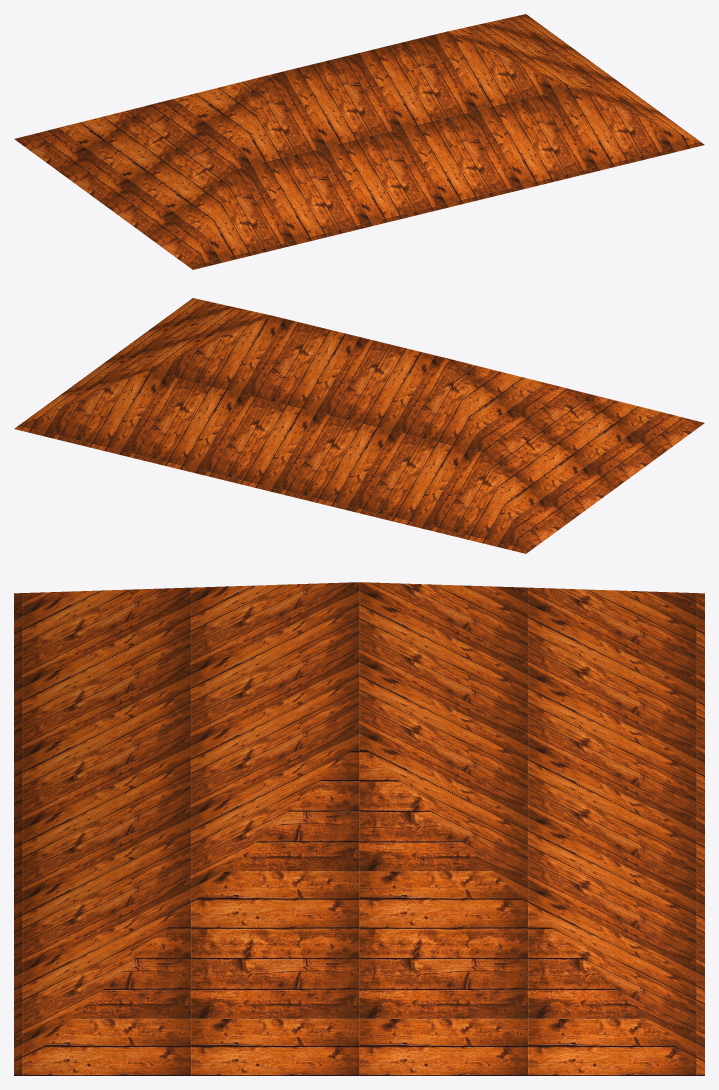
The model's file is roof2.fbx.
3 views of the same model, one above another, from view 1: azimuth 30°, elevation 25°; view 2: azimuth 150°, elevation 25°; view 3: azimuth 270°, elevation 25° (orthographic). The views are drawn at different scales.
Visible parts, largest first — view 1: Plane001; view 2: Plane001; view 3: Plane001.
Part boxes in pixels (x1,y1,x2,y2): Plane001: [14, 14, 704, 269]; Plane001: [14, 298, 704, 553]; Plane001: [14, 582, 704, 1075].
Size of the model in its own units: 760 by 126 by 460.
Materials: 1 (1 with a texture image).
